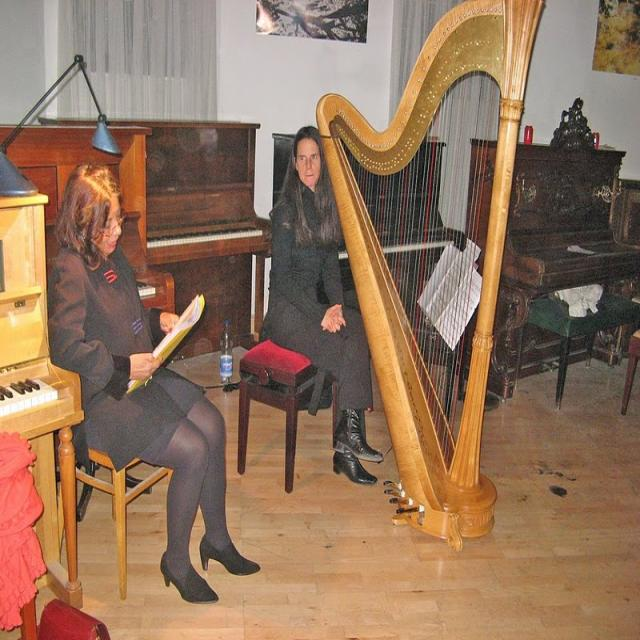harp: (311, 0, 541, 545)
